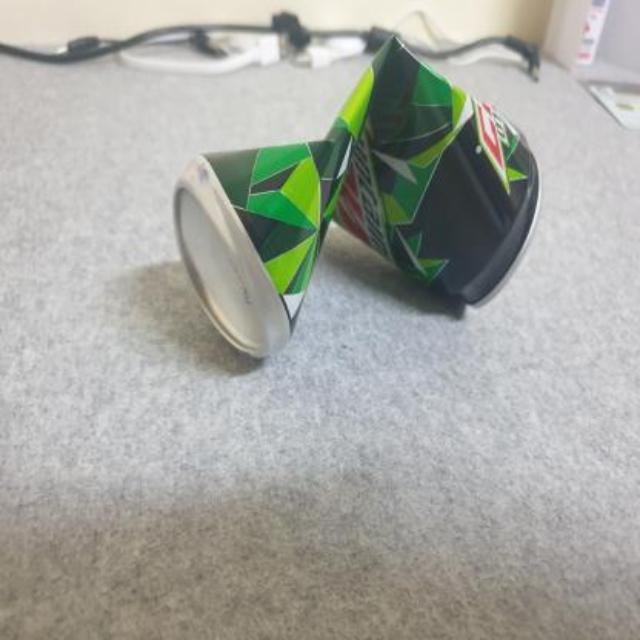metal: (172, 37, 537, 354)
